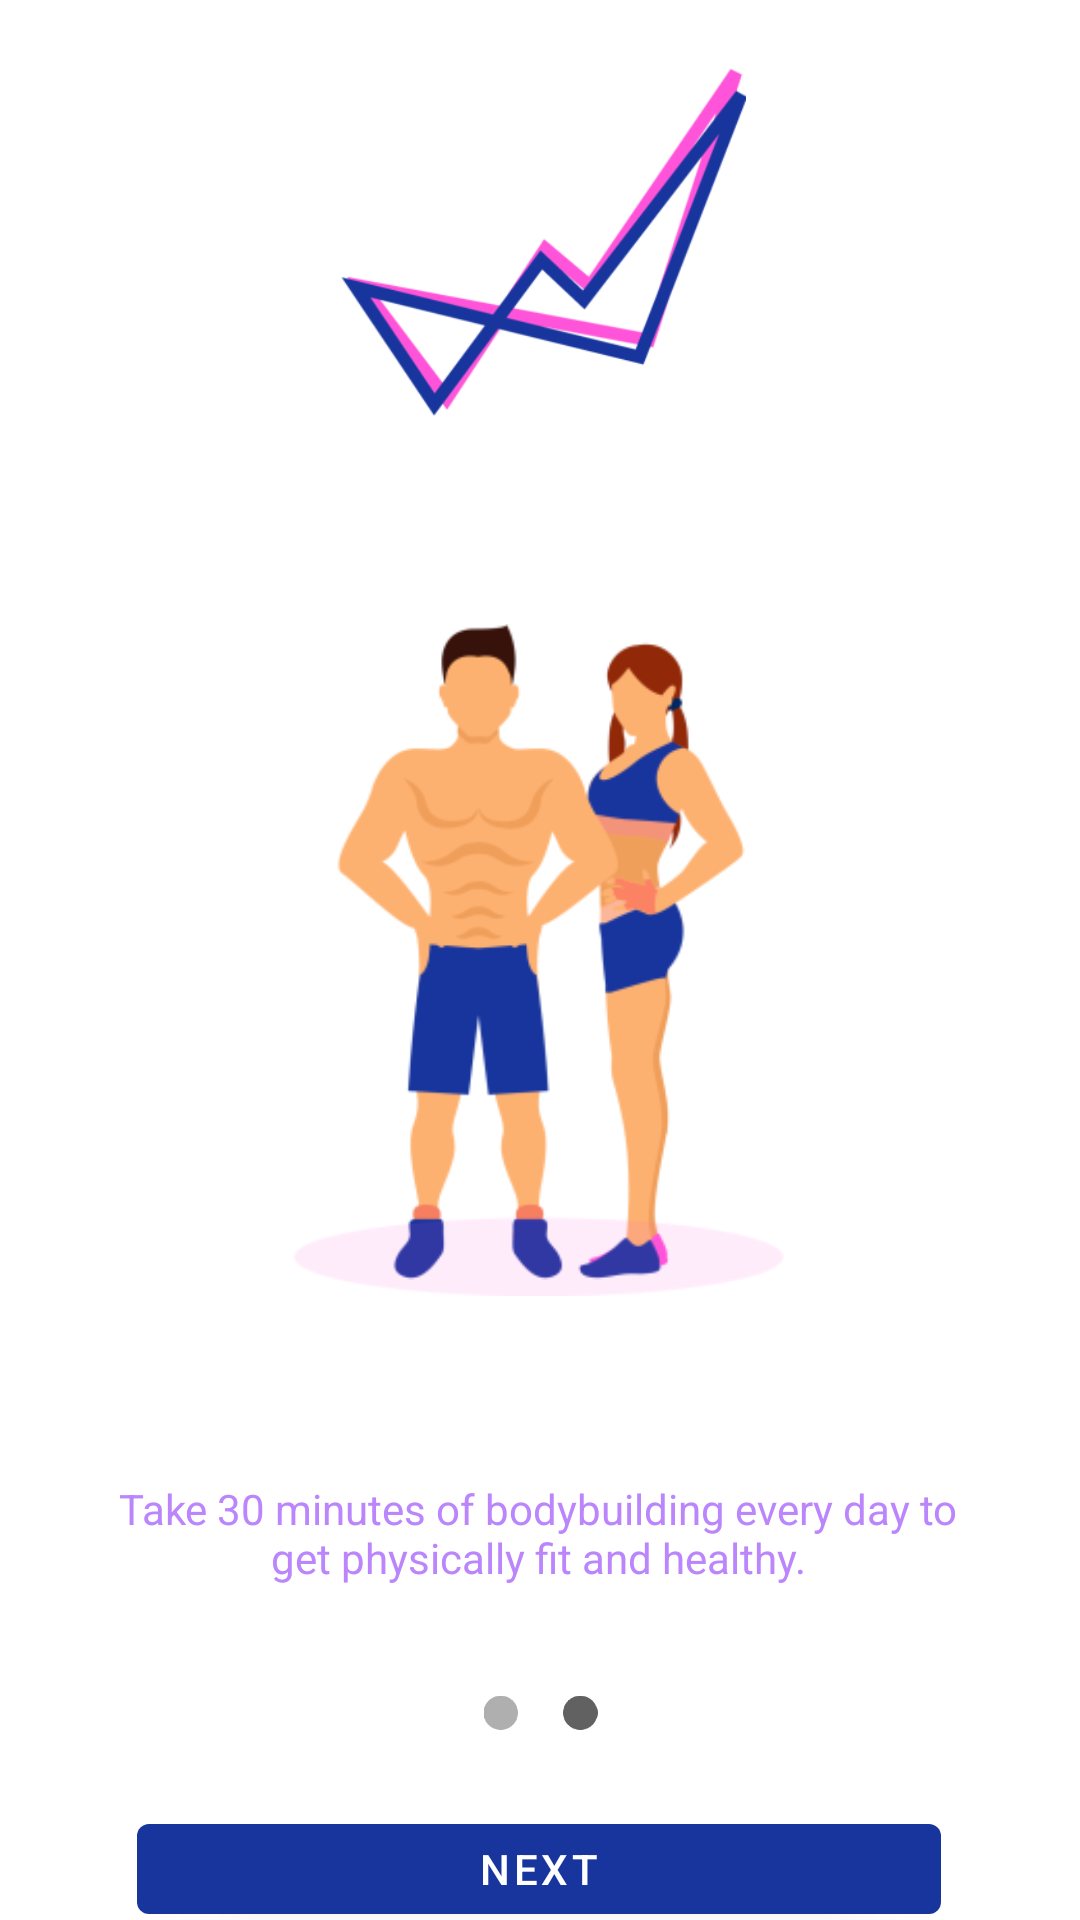

Where icons sit on this 1080 × 1920 app screen, as [x1, y1, x2, y2]:
dot two: [484, 1696, 598, 1730]
